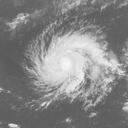cyclone: (29, 33, 106, 101)
